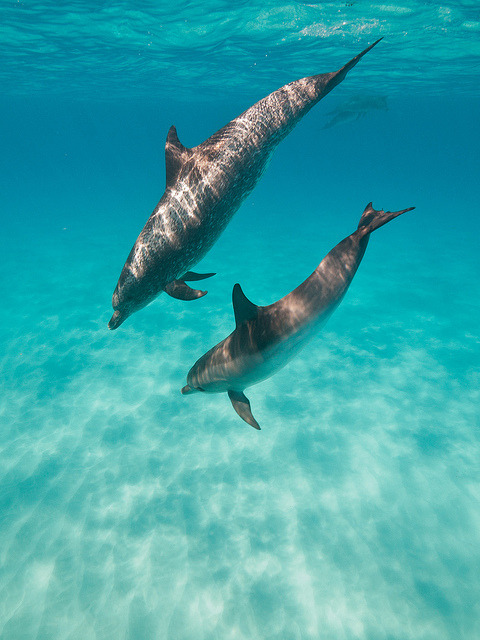dolphin: (84, 19, 412, 344), (154, 199, 422, 421)
